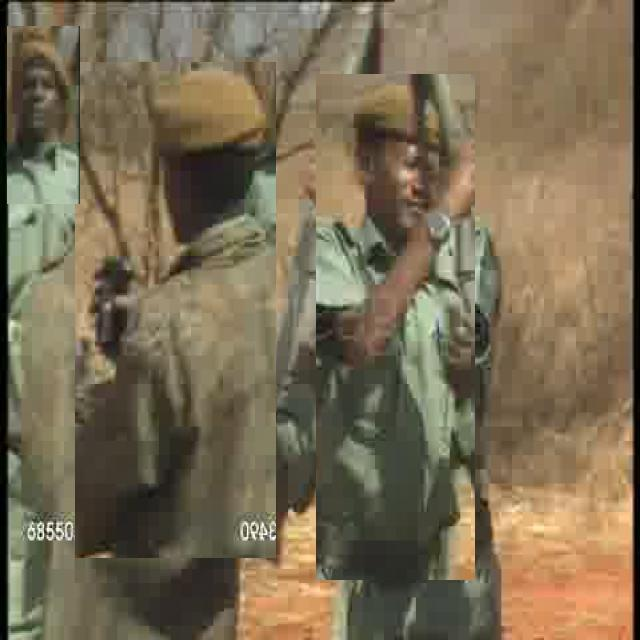poacher: (75, 62, 276, 558), (316, 75, 475, 580), (7, 27, 80, 205)
weapon: (290, 5, 376, 347)
